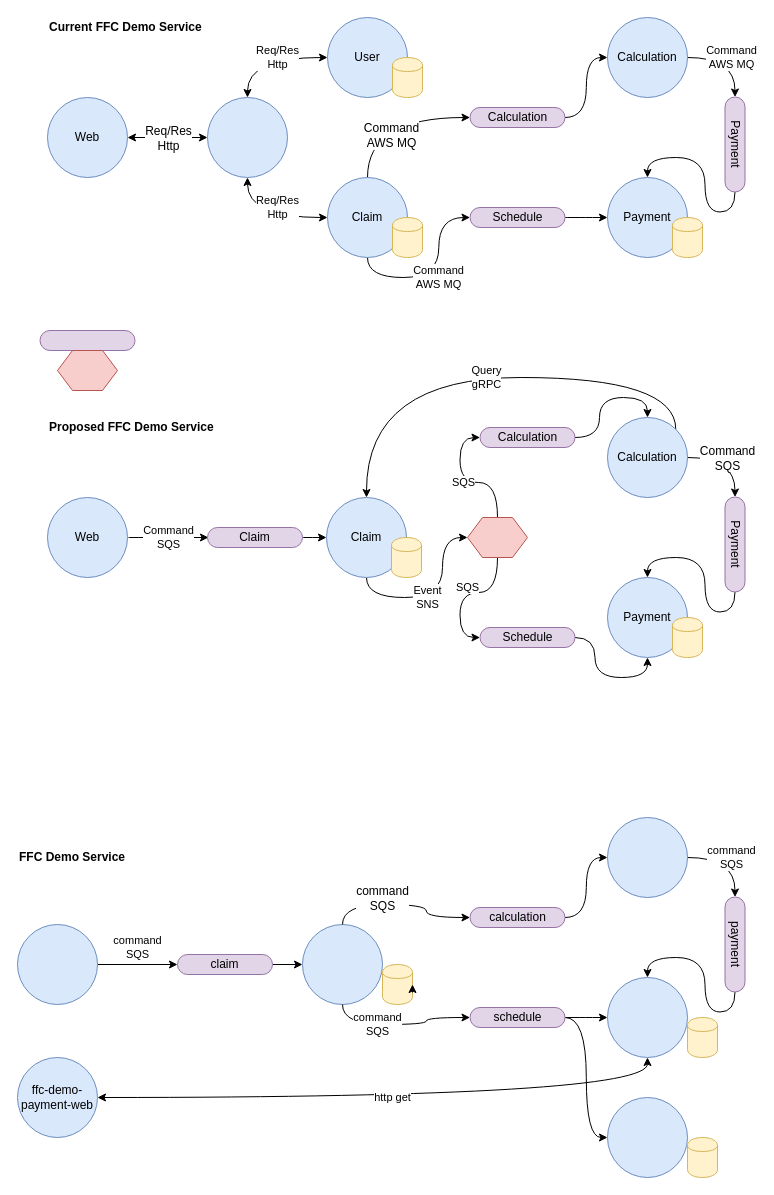
The diagram is 774 pixels wide and 1195 high, and some of its shapes have lost their labels. Here are the shapes that lost their labels. From the top down, the centre of each, then its label:
At point 247,137: "API Gateway".
At point 87,340: "Queue".
At point 87,370: "Topic".
At point 497,537: "New Claim".
At point 647,857: "ffc-demo-calculation-service".
At point 57,964: "ffc-demo-web".
At point 342,964: "ffc-demo-claim-service".
At point 647,1017: "ffc-demo-payment-service".
At point 647,1137: "ffc-demo-payment-service-core".
